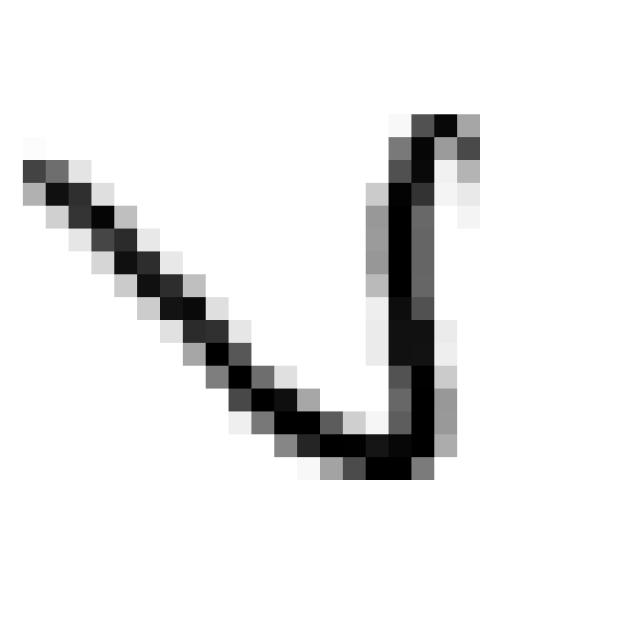7 -seven-: (2, 96, 498, 508)
